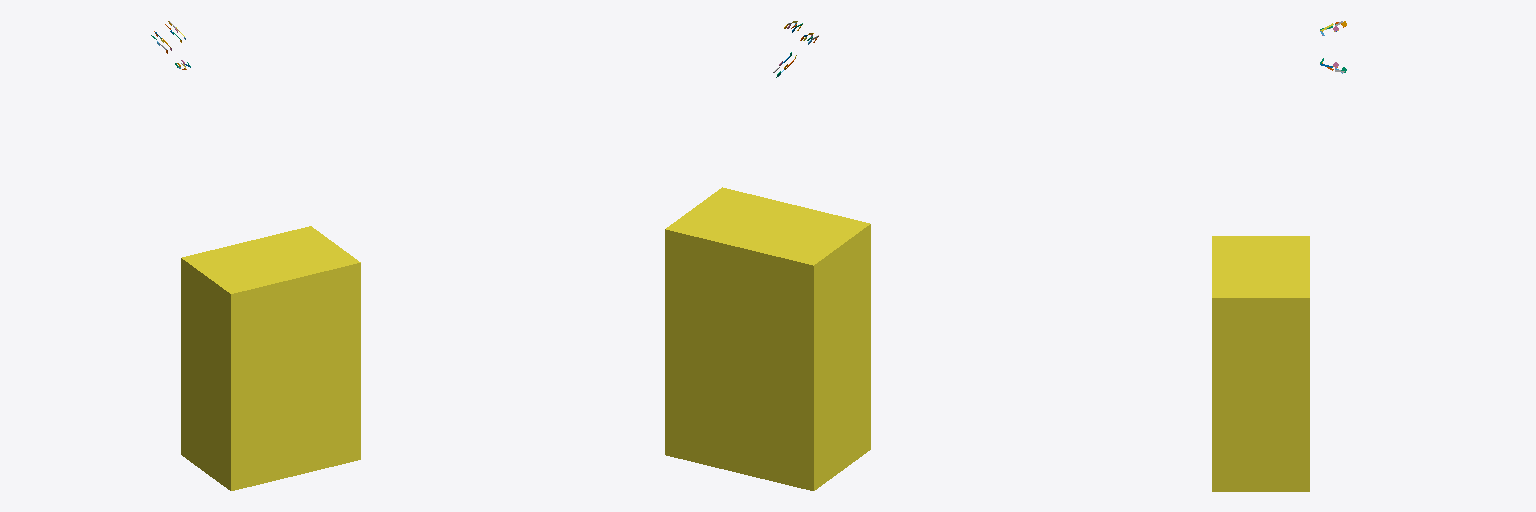
--- What the picture shows (computed from the rendered views, not written in the file) ---
Views: 3 orthographic renders of the robot side by side, from view 1: azimuth 30°, elevation 25°; view 2: azimuth 150°, elevation 25°; view 3: azimuth 270°, elevation 25°.
Model ur5 with 52 links and 51 joints (45 revolute, 6 fixed), rooted at world, posed joints at zero except 1 at the middle of their limits (shoulder_lift_joint = -2.02).
Links seen in each view (by area): view 1: box_link; view 2: box_link; view 3: box_link.
Link boxes in pixels (left/top/right/bottom): box_link: left=181, top=226, right=360, bottom=490; box_link: left=665, top=187, right=870, bottom=490; box_link: left=1212, top=236, right=1309, bottom=491.
Bounding box of the posed robot: 0.6582 × 0.5522 × 1.85 m (x, y, z).
Meshes: 12 distinct files referenced, 0 mesh visuals loaded (none loaded); not drawn: 20 (reference not matched to a file when rendering).

robot.urdf — ur5:
<?xml version="1.0" ?>
<!-- =================================================================================== -->
<!-- |    This document was autogenerated by xacro from ur5_joint_limited_box_robot_robotiq3.urdf.xacro | -->
<!-- |    EDITING THIS FILE BY HAND IS NOT RECOMMENDED                                 | -->
<!-- =================================================================================== -->
<robot name="ur5" xmlns:xacro="http://ros.org/wiki/xacro">
  <gazebo>
    <plugin filename="libgazebo_ros_control.so" name="ros_control">
      <!--robotNamespace>/</robotNamespace-->
      <!--robotSimType>gazebo_ros_control/DefaultRobotHWSim</robotSimType-->
    </plugin>
    <!--
    <plugin name="gazebo_ros_power_monitor_controller" filename="libgazebo_ros_power_monitor.so">
      <alwaysOn>true</alwaysOn>
      <updateRate>1.0</updateRate>
      <timeout>5</timeout>
      <powerStateTopic>power_state</powerStateTopic>
      <powerStateRate>10.0</powerStateRate>
      <fullChargeCapacity>87.78</fullChargeCapacity>     
      <dischargeRate>-474</dischargeRate>
      <chargeRate>525</chargeRate>
      <dischargeVoltage>15.52</dischargeVoltage>
      <chargeVoltage>16.41</chargeVoltage>
    </plugin>
-->
  </gazebo>
  <!-- measured from model -->
  <!--property name="shoulder_height" value="0.089159" /-->
  <!--property name="shoulder_offset" value="0.13585" /-->
  <!-- shoulder_offset - elbow_offset + wrist_1_length = 0.10915 -->
  <!--property name="upper_arm_length" value="0.42500" /-->
  <!--property name="elbow_offset" value="0.1197" /-->
  <!-- CAD measured -->
  <!--property name="forearm_length" value="0.39225" /-->
  <!--property name="wrist_1_length" value="0.093" /-->
  <!-- CAD measured -->
  <!--property name="wrist_2_length" value="0.09465" /-->
  <!-- In CAD this distance is 0.930, but in the spec it is 0.09465 -->
  <!--property name="wrist_3_length" value="0.0823" /-->
  <!-- manually measured -->
  <link name="base_link">
    <visual>
      <geometry>
        <mesh filename="package://ur_description/meshes/ur5/visual/base.dae"/>
      </geometry>
      <material name="LightGrey">
        <color rgba="0.7 0.7 0.7 1.0"/>
      </material>
    </visual>
    <collision>
      <geometry>
        <mesh filename="package://ur_description/meshes/ur5/collision/base.stl"/>
      </geometry>
    </collision>
    <inertial>
      <mass value="4.0"/>
      <origin rpy="0 0 0" xyz="0.0 0.0 0.0"/>
      <inertia ixx="0.00443333156" ixy="0.0" ixz="0.0" iyy="0.00443333156" iyz="0.0" izz="0.0072"/>
    </inertial>
  </link>
  <joint name="shoulder_pan_joint" type="revolute">
    <parent link="base_link"/>
    <child link="shoulder_link"/>
    <origin rpy="0.0 0.0 0.0" xyz="0.0 0.0 0.089159"/>
    <axis xyz="0 0 1"/>
    <limit effort="150.0" lower="-3.14159265" upper="3.14159265" velocity="3.15"/>
    <dynamics damping="0.0" friction="0.0"/>
  </joint>
  <link name="shoulder_link">
    <visual>
      <geometry>
        <mesh filename="package://ur_description/meshes/ur5/visual/shoulder.dae"/>
      </geometry>
      <material name="LightGrey">
        <color rgba="0.7 0.7 0.7 1.0"/>
      </material>
    </visual>
    <collision>
      <geometry>
        <mesh filename="package://ur_description/meshes/ur5/collision/shoulder.stl"/>
      </geometry>
    </collision>
    <inertial>
      <mass value="3.7"/>
      <origin rpy="0 0 0" xyz="0.0 0.0 0.0"/>
      <inertia ixx="0.010267495893" ixy="0.0" ixz="0.0" iyy="0.010267495893" iyz="0.0" izz="0.00666"/>
    </inertial>
  </link>
  <joint name="shoulder_lift_joint" type="revolute">
    <parent link="shoulder_link"/>
    <child link="upper_arm_link"/>
    <origin rpy="0.0 1.570796325 0.0" xyz="0.0 0.13585 0.0"/>
    <axis xyz="0 1 0"/>
    <limit effort="150.0" lower="-3.14159265" upper="-0.9" velocity="3.15"/>
    <!-- <limit effort="150.0" lower="-3.14159265" upper="-0.8" velocity="3.15"/> -->
    <dynamics damping="0.0" friction="0.0"/>
  </joint>
  <link name="upper_arm_link">
    <visual>
      <geometry>
        <mesh filename="package://ur_description/meshes/ur5/visual/upperarm.dae"/>
      </geometry>
      <material name="LightGrey">
        <color rgba="0.7 0.7 0.7 1.0"/>
      </material>
    </visual>
    <collision>
      <geometry>
        <mesh filename="package://ur_description/meshes/ur5/collision/upperarm.stl"/>
      </geometry>
    </collision>
    <inertial>
      <mass value="8.393"/>
      <origin rpy="0 0 0" xyz="0.0 0.0 0.28"/>
      <inertia ixx="0.22689067591" ixy="0.0" ixz="0.0" iyy="0.22689067591" iyz="0.0" izz="0.0151074"/>
    </inertial>
  </link>
  <joint name="elbow_joint" type="revolute">
    <parent link="upper_arm_link"/>
    <child link="forearm_link"/>
    <origin rpy="0.0 0.0 0.0" xyz="0.0 -0.1197 0.425"/>
    <axis xyz="0 1 0"/>
    <limit effort="150.0" lower="-3.14159265" upper="3.14159265" velocity="3.15"/>
    <dynamics damping="0.0" friction="0.0"/>
  </joint>
  <link name="forearm_link">
    <visual>
      <geometry>
        <mesh filename="package://ur_description/meshes/ur5/visual/forearm.dae"/>
      </geometry>
      <material name="LightGrey">
        <color rgba="0.7 0.7 0.7 1.0"/>
      </material>
    </visual>
    <collision>
      <geometry>
        <mesh filename="package://ur_description/meshes/ur5/collision/forearm.stl"/>
      </geometry>
    </collision>
    <inertial>
      <mass value="2.275"/>
      <origin rpy="0 0 0" xyz="0.0 0.0 0.25"/>
      <inertia ixx="0.049443313556" ixy="0.0" ixz="0.0" iyy="0.049443313556" iyz="0.0" izz="0.004095"/>
    </inertial>
  </link>
  <joint name="wrist_1_joint" type="revolute">
    <parent link="forearm_link"/>
    <child link="wrist_1_link"/>
    <origin rpy="0.0 1.570796325 0.0" xyz="0.0 0.0 0.39225"/>
    <axis xyz="0 1 0"/>
    <limit effort="28.0" lower="-3.14159265" upper="3.14159265" velocity="3.2"/>
    <dynamics damping="0.0" friction="0.0"/>
  </joint>
  <link name="wrist_1_link">
    <visual>
      <geometry>
        <mesh filename="package://ur_description/meshes/ur5/visual/wrist1.dae"/>
      </geometry>
      <material name="LightGrey">
        <color rgba="0.7 0.7 0.7 1.0"/>
      </material>
    </visual>
    <collision>
      <geometry>
        <mesh filename="package://ur_description/meshes/ur5/collision/wrist1.stl"/>
      </geometry>
    </collision>
    <inertial>
      <mass value="1.219"/>
      <origin rpy="0 0 0" xyz="0.0 0.0 0.0"/>
      <inertia ixx="0.111172755531" ixy="0.0" ixz="0.0" iyy="0.111172755531" iyz="0.0" izz="0.21942"/>
    </inertial>
  </link>
  <joint name="wrist_2_joint" type="revolute">
    <parent link="wrist_1_link"/>
    <child link="wrist_2_link"/>
    <origin rpy="0.0 0.0 0.0" xyz="0.0 0.093 0.0"/>
    <axis xyz="0 0 1"/>
    <limit effort="28.0" lower="-3.14159265" upper="3.14159265" velocity="3.2"/>
    <dynamics damping="0.0" friction="0.0"/>
  </joint>
  <link name="wrist_2_link">
    <visual>
      <geometry>
        <mesh filename="package://ur_description/meshes/ur5/visual/wrist2.dae"/>
      </geometry>
      <material name="LightGrey">
        <color rgba="0.7 0.7 0.7 1.0"/>
      </material>
    </visual>
    <collision>
      <geometry>
        <mesh filename="package://ur_description/meshes/ur5/collision/wrist2.stl"/>
      </geometry>
    </collision>
    <inertial>
      <mass value="1.219"/>
      <origin rpy="0 0 0" xyz="0.0 0.0 0.0"/>
      <inertia ixx="0.111172755531" ixy="0.0" ixz="0.0" iyy="0.111172755531" iyz="0.0" izz="0.21942"/>
    </inertial>
  </link>
  <joint name="wrist_3_joint" type="revolute">
    <parent link="wrist_2_link"/>
    <child link="wrist_3_link"/>
    <origin rpy="0.0 0.0 0.0" xyz="0.0 0.0 0.09465"/>
    <axis xyz="0 1 0"/>
    <limit effort="28.0" lower="-3.14159265" upper="3.14159265" velocity="3.2"/>
    <dynamics damping="0.0" friction="0.0"/>
  </joint>
  <link name="wrist_3_link">
    <visual>
      <geometry>
        <mesh filename="package://ur_description/meshes/ur5/visual/wrist3.dae"/>
      </geometry>
      <material name="LightGrey">
        <color rgba="0.7 0.7 0.7 1.0"/>
      </material>
    </visual>
    <collision>
      <geometry>
        <mesh filename="package://ur_description/meshes/ur5/collision/wrist3.stl"/>
      </geometry>
    </collision>
    <inertial>
      <mass value="0.1879"/>
      <origin rpy="0 0 0" xyz="0.0 0.0 0.0"/>
      <inertia ixx="0.0171364731454" ixy="0.0" ixz="0.0" iyy="0.0171364731454" iyz="0.0" izz="0.033822"/>
    </inertial>
  </link>
  <joint name="ee_fixed_joint" type="fixed">
    <parent link="wrist_3_link"/>
    <child link="ee_link"/>
    <origin rpy="0.0 0.0 1.570796325" xyz="0.0 0.0823 0.0"/>
  </joint>
  <link name="ee_link">
    <collision>
      <geometry>
        <box size="0.01 0.01 0.01"/>
      </geometry>
      <origin rpy="0 0 0" xyz="-0.01 0 0"/>
    </collision>
  </link>
  
  
  <transmission name="elbow_trans">
    <type>transmission_interface/SimpleTransmission</type>
    <joint name="elbow_joint">
      <hardwareInterface>PositionJointInterface</hardwareInterface>
    </joint>
    <actuator name="elbow_motor">
      <mechanicalReduction>1</mechanicalReduction>
    </actuator>
  </transmission>
  <transmission name="wrist_1_trans">
    <type>transmission_interface/SimpleTransmission</type>
    <joint name="wrist_1_joint">
      <hardwareInterface>PositionJointInterface</hardwareInterface>
    </joint>
    <actuator name="wrist_1_motor">
      <mechanicalReduction>1</mechanicalReduction>
    </actuator>
  </transmission>
  <transmission name="wrist_2_trans">
    <type>transmission_interface/SimpleTransmission</type>
    <joint name="wrist_2_joint">
      <hardwareInterface>PositionJointInterface</hardwareInterface>
    </joint>
    <actuator name="wrist_2_motor">
      <mechanicalReduction>1</mechanicalReduction>
    </actuator>
  </transmission>
  <transmission name="wrist_3_trans">
    <type>transmission_interface/SimpleTransmission</type>
    <joint name="wrist_3_joint">
      <hardwareInterface>PositionJointInterface</hardwareInterface>
    </joint>
    <actuator name="wrist_3_motor">
      <mechanicalReduction>1</mechanicalReduction>
    </actuator>
  </transmission>
  <!-- nothing to do here at the moment -->
  <!-- ROS base_link to UR 'Base' Coordinates transform -->
  <link name="base"/>
  <joint name="base_link-base_fixed_joint" type="fixed">
    <!-- NOTE: this rotation is only needed as long as base_link itself is
                 not corrected wrt the real robot (ie: rotated over 180
                 degrees)
      -->
    <origin rpy="0 0 -3.14159265" xyz="0 0 0"/>
    <parent link="base_link"/>
    <child link="base"/>
  </joint>
  <!-- Frame coincident with all-zeros TCP on UR controller -->
  <link name="tool0"/>
  <joint name="wrist_3_link-tool0_fixed_joint" type="fixed">
    <origin rpy="-1.570796325 0 0" xyz="0 0.0823 0"/>
    <parent link="wrist_3_link"/>
    <child link="tool0"/>
  </joint>
  <link name="world"/>
  <!-- box -->
  <link name="box_link">
    <visual>
      <geometry>
        <box size=".6 .4 0.87"/>
      </geometry>
    </visual>
  </link>
  <!-- attach the box to the world-->
  <joint name="world_joint" type="fixed">
    <parent link="world"/>
    <child link="box_link"/>
    <origin rpy="0.0 0.0 0.0" xyz="0.0 0 0.435"/>
  </joint>
  <!-- attach the robot to the box -->
  <joint name="box_joint" type="fixed">
    <parent link="box_link"/>
    <child link="base_link"/>
    <origin rpy="0.0 0.0 0.0" xyz="0.0 0.0 0.435"/>
  </joint>
  <!-- joint attaching parent link to robotiq hand -->
  <joint name="gripperrobotiq_hand_joint" type="fixed">
    <origin rpy="1.570796325 0 0" xyz="0 0 0.0423"/>
    <parent link="tool0"/>
    <child link="gripperpalm"/>
  </joint>
  <!-- Link list -->
  <!-- Link 0 -->
  <link name="gripperfinger_1_link_0">
    <visual>
      <origin rpy="0 0 0" xyz="0 0 0"/>
      <geometry>
        <mesh filename="package://robotiq_s_model_visualization/meshes/s-model_articulated/visual/link_0.STL"/>
      </geometry>
      <material name="green">
        <color rgba="0 1 0 1"/>
      </material>
    </visual>
    <collision>
      <origin rpy="0 0 0" xyz="0 0 0"/>
      <geometry>
        <mesh filename="package://robotiq_s_model_visualization/meshes/s-model_articulated/collision/link_0.STL"/>
      </geometry>
      <material name="yellow">
        <color rgba="0 1 1 1"/>
      </material>
    </collision>
    <inertial>
      <mass value="0.1"/>
      <origin xyz="-0.01 0 0"/>
      <inertia ixx="0.000018" ixy="0" ixz="0" iyy="0.000025" iyz="0" izz="0.000025"/>
    </inertial>
  </link>
  <gazebo reference="gripperfinger_1_link_0">
    <mu1>1.1</mu1>
    <mu2>1.1</mu2>
  </gazebo>
  <!-- Link 1 -->
  <link name="gripperfinger_1_link_1">
    <visual>
      <origin rpy="0 0 1.5708" xyz="0 0.05717 0"/>
      <geometry>
        <mesh filename="package://robotiq_s_model_visualization/meshes/s-model_articulated/visual/link_1.STL"/>
      </geometry>
      <material name="green"/>
    </visual>
    <collision>
      <origin rpy="0 0 1.5708" xyz="0 0.05717 0"/>
      <geometry>
        <mesh filename="package://robotiq_s_model_visualization/meshes/s-model_articulated/collision/link_1.STL"/>
      </geometry>
      <material name="yellow">
        <color rgba="0 1 1 1"/>
      </material>
    </collision>
    <inertial>
      <origin rpy="0 0 1.5708" xyz="0.00053 0.03218 0"/>
      <mass value="0.047"/>
      <inertia ixx="0.00000499332" ixy="0.00000091312" ixz="-0.00000000120" iyy="0.00006434531" iyz="-0.00000000007" izz="0.00006061917"/>
    </inertial>
  </link>
  <gazebo reference="gripperfinger_1_link_1">
    <mu1>1.1</mu1>
    <mu2>1.1</mu2>
  </gazebo>
  <!-- Link 2 -->
  <link name="gripperfinger_1_link_2">
    <visual>
      <origin rpy="0 0 1.5708" xyz="0 0.03810 0.0075"/>
      <geometry>
        <mesh filename="package://robotiq_s_model_visualization/meshes/s-model_articulated/visual/link_2.STL"/>
      </geometry>
      <material name="green"/>
    </visual>
    <collision>
      <origin rpy="0 0 1.5708" xyz="0 0.03810 0.0075"/>
      <geometry>
        <mesh filename="package://robotiq_s_model_visualization/meshes/s-model_articulated/collision/link_2.STL"/>
      </geometry>
      <material name="yellow"/>
    </collision>
    <inertial>
      <origin rpy="0 0 1.5708" xyz="0.00048 0.02167 0.00018"/>
      <mass value="0.03284"/>
      <inertia ixx="0.00000348008" ixy="0.00000031940" ixz="0.00000013041" iyy="0.00002248123" iyz="0.00000000291" izz="0.00001986346"/>
    </inertial>
  </link>
  <gazebo reference="gripperfinger_1_link_2">
    <mu1>1.1</mu1>
    <mu2>1.1</mu2>
  </gazebo>
  <!-- Link 3 -->
  <link name="gripperfinger_1_link_3">
    <visual>
      <origin rpy="0 0 0" xyz="0 0 0"/>
      <geometry>
        <mesh filename="package://robotiq_s_model_visualization/meshes/s-model_articulated/visual/link_3.STL"/>
      </geometry>
      <material name="green"/>
    </visual>
    <collision>
      <origin rpy="0 0 0" xyz="0 0 0"/>
      <geometry>
        <mesh filename="package://robotiq_s_model_visualization/meshes/s-model_articulated/collision/link_3.STL"/>
      </geometry>
      <material name="yellow"/>
    </collision>
    <inertial>
      <origin rpy="0 0 0" xyz="0.01626 0.00049 0.0002"/>
      <mass value="0.03354"/>
      <inertia ixx="0.00000305151" ixy="0.00000089792" ixz="0.00000000249" iyy="0.00001427978" iyz="-0.00000001191" izz="0.00001264126"/>
    </inertial>
  </link>
  <gazebo reference="gripperfinger_1_link_3">
    <mu1>1.1</mu1>
    <mu2>1.1</mu2>
  </gazebo>
  <!-- Link proximal actuating hinge -->
  <link name="gripperfinger_1_link_proximal_actuating_hinge">
    <visual>
      <origin rpy="0 0 0" xyz="0.01429 0 0"/>
      <geometry>
        <box size="0.02858 .0075 .002"/>
      </geometry>
    </visual>
    <collision>
      <origin rpy="0 0 0" xyz="0.01429 0 0"/>
      <geometry>
        <box size="0.02858 .0075 .002"/>
      </geometry>
    </collision>
    <inertial>
      <origin rpy="0 0 0" xyz="0.0012 -0.00162 -0.00161"/>
      <mass value="0.02647"/>
      <inertia ixx="0.00000156447" ixy="0.000000236226" ixz="-0.00000014862" iyy="0.00000221068" iyz="-0.00000014369" izz="0.00000323175"/>
    </inertial>
  </link>
  <gazebo reference="gripperfinger_1_link_proximal_actuating_hinge">
    <mu1>1.1</mu1>
    <mu2>1.1</mu2>
  </gazebo>
  <!-- Link paraproximal actuating hinge -->
  <link name="gripperfinger_1_link_paraproximal_actuating_hinge">
    <visual>
      <origin rpy="0 0 0" xyz="0.01143 0 0"/>
      <geometry>
        <box size="0.02286 .0075 .002"/>
      </geometry>
    </visual>
    <collision>
      <origin rpy="0 0 0" xyz="0.01143 0 0"/>
      <geometry>
        <box size="0.02286 .0075 .002"/>
      </geometry>
    </collision>
    <inertial>
      <origin rpy="0 0 0" xyz="0.0064 0 0"/>
      <!-- copied from proximal_actuating_hinge -->
      <mass value="0.00362"/>
      <inertia ixx="0.00000012043" ixy="0" ixz="0" iyy="0.00000053588" iyz="0" izz="0.00000065322"/>
    </inertial>
  </link>
  <gazebo reference="gripperfinger_1_link_paraproximal_actuating_hinge">
    <mu1>1.1</mu1>
    <mu2>1.1</mu2>
  </gazebo>
  <!-- Link proximal actuating bar -->
  <link name="gripperfinger_1_link_proximal_actuating_bar">
    <visual>
      <origin rpy="0 0 0" xyz="0.026789 0 0"/>
      <geometry>
        <box size="0.05398 .0075 .002"/>
      </geometry>
    </visual>
    <collision>
      <origin rpy="0 0 0" xyz="0.026789 0 0"/>
      <geometry>
        <box size="0.05398 .0075 .002"/>
      </geometry>
    </collision>
    <inertial>
      <origin rpy="0 0 0" xyz="0.02699 -0.00122 0"/>
      <mass value="0.00659"/>
      <inertia ixx="0.00000008348" ixy="-0.0000002179" ixz="0.00000000134" iyy="0.00000719076" iyz="0" izz="0.00000718272"/>
    </inertial>
  </link>
  <gazebo reference="gripperfinger_1_link_proximal_actuating_bar">
    <mu1>1.1</mu1>
    <mu2>1.1</mu2>
  </gazebo>
  <!-- Link paraproximal bar -->
  <link name="gripperfinger_1_link_paraproximal_bar">
    <visual>
      <origin rpy="0 0 0" xyz="0.02885 0 0"/>
      <geometry>
        <box size="0.05770 .0075 .002"/>
      </geometry>
    </visual>
    <collision>
      <origin rpy="0 0 0" xyz="0.02885 0 0"/>
      <geometry>
        <box size="0.05770 .0075 .002"/>
      </geometry>
    </collision>
    <inertial>
      <origin rpy="0 0 0" xyz="0.02858 -0.00129 0"/>
      <mass value="0.00732"/>
      <inertia ixx="0.00000009065" ixy="-0.00000027047" ixz="0.00000000142" iyy="0.00000878034" iyz="0" izz="0.00000877558"/>
    </inertial>
  </link>
  <gazebo reference="gripperfinger_1_link_paraproximal_bar">
    <mu1>1.1</mu1>
    <mu2>1.1</mu2>
  </gazebo>
  <!-- Link median actuating hinge -->
  <link name="gripperfinger_1_link_median_actuating_hinge">
    <visual>
      <origin rpy="0 0 0" xyz="0 0 0"/>
      <geometry>
        <box size=".02 .02 .002"/>
      </geometry>
    </visual>
    <collision>
      <origin rpy="0 0 0" xyz="0 0 0"/>
      <geometry>
        <box size=".02 .02 .002"/>
      </geometry>
    </collision>
    <inertial>
      <origin rpy="0 0 0" xyz="0.0092 0.00514 0"/>
      <mass value="0.00359"/>
      <inertia ixx="0.00000024735" ixy="0.00000023619" ixz="0" iyy="0.00000047681" iyz="0" izz="0.00000071813"/>
    </inertial>
  </link>
  <gazebo reference="gripperfinger_1_link_median_actuating_hinge">
    <mu1>1.1</mu1>
    <mu2>1.1</mu2>
  </gazebo>
  <!-- Link median bar -->
  <link name="gripperfinger_1_link_median_bar">
    <visual>
      <origin rpy="0 0 0" xyz="0.01905 0 0"/>
      <geometry>
        <box size="0.0381 .0075 .002"/>
      </geometry>
    </visual>
    <collision>
      <origin rpy="0 0 0" xyz="0.01905 0 0"/>
      <geometry>
        <box size="0.0381 .0075 .002"/>
      </geometry>
    </collision>
    <inertial>
      <origin rpy="0 0 0" xyz="0.01905 -0.00107 0"/>
      <mass value="0.00538"/>
      <inertia ixx="0.00000006639" ixy="-0.00000010996" ixz="0.00000000094" iyy="0.00000305318" iyz="0" izz="0.00000304657"/>
    </inertial>
  </link>
  <gazebo reference="gripperfinger_1_link_median_bar">
    <mu1>1.1</mu1>
    <mu2>1.1</mu2>
  </gazebo>
  <!-- Link paramedian hinge -->
  <link name="gripperfinger_1_link_paramedian_hinge">
    <visual>
      <origin rpy="0 0 0" xyz="0 0 0"/>
      <geometry>
        <box size=".02 .02 .002"/>
      </geometry>
    </visual>
    <collision>
      <origin rpy="0 0 0" xyz="0 0 0"/>
      <geometry>
        <box size=".02 .02 .002"/>
      </geometry>
    </collision>
    <inertial>
      <origin rpy="0 0 0" xyz="-0.01025 0.00046 0"/>
      <mass value="0.00276"/>
      <inertia ixx="0.00000004213" ixy="-0.00000001491" ixz="0" iyy="0.00000050258" iyz="0" izz="0.00000054007"/>
    </inertial>
  </link>
  <gazebo reference="gripperfinger_1_link_paramedian_hinge">
    <mu1>1.1</mu1>
    <mu2>1.1</mu2>
  </gazebo>
  <!-- Link median bar underactuated -->
  <link name="gripperfinger_1_link_median_bar_underactuated">
    <visual>
      <origin rpy="0 0 0" xyz="0.01905 0 0"/>
      <geometry>
        <box size="0.0381 .0075 .002"/>
      </geometry>
    </visual>
    <collision>
      <origin rpy="0 0 0" xyz="0.01905 0 0"/>
      <geometry>
        <box size="0.0381 .0075 .002"/>
      </geometry>
    </collision>
    <inertial>
      <origin rpy="0 0 0" xyz="0.01905 -0.00107 0"/>
      <mass value="0.00538"/>
      <inertia ixx="0.00000006639" ixy="-0.00000010996" ixz="-0.00000000094" iyy="0.00000305318" iyz="0" izz="0.00000304657"/>
    </inertial>
  </link>
  <gazebo reference="gripperfinger_1_link_median_bar_underactuated">
    <mu1>1.1</mu1>
    <mu2>1.1</mu2>
  </gazebo>
  <!-- Link paradistal hinge -->
  <link name="gripperfinger_1_link_paradistal_hinge">
    <visual>
      <origin rpy="0 0 0" xyz="0 0 0"/>
      <geometry>
        <box size=".02 .02 .002"/>
      </geometry>
    </visual>
    <collision>
      <origin rpy="0 0 0" xyz="0 0 0"/>
      <geometry>
        <box size=".02 0.02 .002"/>
      </geometry>
    </collision>
    <inertial>
      <origin rpy="0 0 0" xyz="0.00548 0 0"/>
      <mass value="0.00158"/>
      <inertia ixx="0.00000001907" ixy="0" ixz="0" iyy="0.00000010970" iyz="0" izz="0.00000012610"/>
    </inertial>
  </link>
  <gazebo reference="gripperfinger_1_link_paradistal_hinge">
    <mu1>1.1</mu1>
    <mu2>1.1</mu2>
  </gazebo>
  <!-- End of link list -->
  <!-- Joint list -->
  <!-- Joint proximal actuating hinge -->
  <joint name="gripperfinger_1_joint_proximal_actuating_hinge" type="revolute">
    <parent link="gripperfinger_1_link_0"/>
    <child link="gripperfinger_1_link_proximal_actuating_hinge"/>
    <axis xyz="0 0 1"/>
    <origin rpy="0 0 -2.0906" xyz="0 0 0.01"/>
    <limit effort="100" lower="-3.1416" upper="3.1416" velocity="100"/>
  </joint>
  <gazebo reference="gripperfinger_1_joint_proximal_actuating_hinge">
    <implicitSpringDamper>1</implicitSpringDamper>
  </gazebo>
  <!-- Joint paraproximal actuating hinge -->
  <joint name="gripperfinger_1_joint_paraproximal_actuating_hinge" type="revolute">
    <parent link="gripperfinger_1_link_0"/>
    <child link="gripperfinger_1_link_paraproximal_actuating_hinge"/>
    <axis xyz="0 0 1"/>
    <origin rpy="0 0 -2.0906" xyz="0 0 -0.01"/>
    <limit effort="100" lower="-3.1416" upper="3.1416" velocity="100"/>
  </joint>
  <gazebo reference="gripperfinger_1_joint_paraproximal_actuating_hinge">
    <implicitSpringDamper>1</implicitSpringDamper>
  </gazebo>
  <!-- Joint proximal actuating bar -->
  <joint name="gripperfinger_1_joint_proximal_actuating_bar" type="revolute">
    <parent link="gripperfinger_1_link_proximal_actuating_hinge"/>
    <child link="gripperfinger_1_link_proximal_actuating_bar"/>
    <axis xyz="0 0 1"/>
    <origin rpy="0 0 1.8616" xyz="0.02858 0 0"/>
    <limit effort="100" lower="-3.1416" upper="3.1416" velocity="100"/>
  </joint>
  <gazebo reference="gripperfinger_1_joint_proximal_actuating_bar">
    <implicitSpringDamper>1</implicitSpringDamper>
  </gazebo>
  <!-- Joint paraproximal bar -->
  <joint name="gripperfinger_1_joint_paraproximal_bar" type="revolute">
    <parent link="gripperfinger_1_link_paraproximal_actuating_hinge"/>
    <child link="gripperfinger_1_link_paraproximal_bar"/>
    <axis xyz="0 0 1"/>
    <origin rpy="0 0 1.57" xyz="0.02286 0 0"/>
    <limit effort="100" lower="-3.1416" upper="3.1416" velocity="100"/>
  </joint>
  <gazebo reference="gripperfinger_1_joint_paraproximal_bar">
    <implicitSpringDamper>1</implicitSpringDamper>
  </gazebo>
  <!-- Joint median actuating hinge -->
  <joint name="gripperfinger_1_joint_median_actuating_hinge" type="revolute">
    <parent link="gripperfinger_1_link_1"/>
    <child link="gripperfinger_1_link_median_actuating_hinge"/>
    <axis xyz="0 0 1"/>
    <origin rpy="0 0 -0.37" xyz="0 0.05715 0.01"/>
    <limit effort="100" lower="-3.1416" upper="3.1416" velocity="100"/>
  </joint>
  <gazebo reference="gripperfinger_1_joint_median_actuating_hinge">
    <implicitSpringDamper>1</implicitSpringDamper>
  </gazebo>
  <!-- Joint paramedian hinge -->
  <joint name="gripperfinger_1_joint_paramedian_hinge" type="revolute">
    <parent link="gripperfinger_1_link_1"/>
    <child link="gripperfinger_1_link_paramedian_hinge"/>
    <axis xyz="0 0 1"/>
    <!-- -0.37 is hand picked, 0.9719 is hand calculated from atan(0.02381/0.01625) -->
    <origin rpy="0 0 0" xyz="0 0.05715 -0.01"/>
    <limit effort="100" lower="-3.1416" upper="3.1416" velocity="100"/>
  </joint>
  <gazebo reference="gripperfinger_1_joint_paramedian_hinge">
    <implicitSpringDamper>1</implicitSpringDamper>
  </gazebo>
  <!-- Joint median actuating hinge median bar -->
  <joint name="gripperfinger_1_joint_median_actuating_hinge_median_bar" type="revolute">
    <parent link="gripperfinger_1_link_median_actuating_hinge"/>
    <child link="gripperfinger_1_link_median_bar"/>
    <axis xyz="0 0 1"/>
    <!-- hand calc 90 deg + atan(0.01516/0.01625) -->
    <origin rpy="0 0 2.3215" xyz="0.01625 0.01516 0"/>
    <limit effort="100" lower="-3.1416" upper="3.1416" velocity="100"/>
  </joint>
  <gazebo reference="gripperfinger_1_joint_median_actuating_hinge_median_bar">
    <implicitSpringDamper>1</implicitSpringDamper>
  </gazebo>
  <!-- Joint paradistal hinge -->
  <joint name="gripperfinger_1_joint_paradistal_hinge" type="revolute">
    <parent link="gripperfinger_1_link_2"/>
    <child link="gripperfinger_1_link_paradistal_hinge"/>
    <axis xyz="0 0 1"/>
    <origin rpy="0 0 0" xyz="0 0.039 -0.01"/>
    <limit effort="100" lower="-3.1416" upper="3.1416" velocity="100"/>
  </joint>
  <gazebo reference="gripperfinger_1_joint_paradistal_hinge">
    <implicitSpringDamper>1</implicitSpringDamper>
  </gazebo>
  <!-- Joint paramedian hinge median bar underactuated -->
  <joint name="gripperfinger_1_joint_paramedian_hinge_median_bar_underactuated" type="revolute">
    <parent link="gripperfinger_1_link_paramedian_hinge"/>
    <child link="gripperfinger_1_link_median_bar_underactuated"/>
    <axis xyz="0 0 1"/>
    <!-- hand calc 90 deg + atan(0.01227/0.00329) -->
    <origin rpy="0 0 1.5708" xyz="0.01227 0.00329 0"/>
    <limit effort="100" lower="-3.1416" upper="3.1416" velocity="100"/>
  </joint>
  <gazebo reference="gripperfinger_1_joint_paramedian_hinge_median_bar_underactuated">
    <implicitSpringDamper>1</implicitSpringDamper>
  </gazebo>
  <!-- Joint 1 -->
  <joint name="gripperfinger_1_joint_1" type="revolute">
    <origin rpy="0 0 -2.0906" xyz="0 0 0"/>
    <axis xyz="0 0 1"/>
    <parent link="gripperfinger_1_link_0"/>
    <child link="gripperfinger_1_link_1"/>
    <dynamics damping="1" friction="0"/>
    <!-- Limits: [0deg.,70deg.] -->
    <limit effort="60" lower="0" upper="1.2217" velocity="-1"/>
  </joint>
  <gazebo reference="gripperfinger_1_joint_1">
    <implicitSpringDamper>1</implicitSpringDamper>
  </gazebo>
  <!-- Joint 2 -->
  <joint name="gripperfinger_1_joint_2" type="revolute">
    <parent link="gripperfinger_1_link_1"/>
    <child link="gripperfinger_1_link_2"/>
    <dynamics damping="1" friction="0"/>
    <axis xyz="0 0 1"/>
    <origin rpy="0 0 0" xyz="0 0.05715 0"/>
    <!-- Limits: [0deg.,90deg.] -->
    <limit effort="60" lower="0" upper="1.5708" velocity="-1"/>
  </joint>
  <gazebo reference="gripperfinger_1_joint_2">
    <implicitSpringDamper>1</implicitSpringDamper>
  </gazebo>
  <!-- Joint 3 -->
  <joint name="gripperfinger_1_joint_3" type="revolute">
    <parent link="gripperfinger_1_link_2"/>
    <child link="gripperfinger_1_link_3"/>
    <dynamics damping="1" friction="0"/>
    <axis xyz="0 0 1"/>
    <origin rpy="0 0 2.0906" xyz="0 0.039 0"/>
    <!-- Limits: [-38deg.,60deg.] -->
    <limit effort="60" lower="-0.6632" upper="1.0471" velocity="-1"/>
  </joint>
  <gazebo reference="gripperfinger_1_joint_3">
    <implicitSpringDamper>1</implicitSpringDamper>
  </gazebo>
  <!-- end of joint list -->
  <!-- coupling joints in sdf -->
  <gazebo>
    <joint name="gripperfinger_1_link_proximal_actuating_bar_median_actuating_hinge_couple" type="revolute">
      <parent>gripperfinger_1_link_median_actuating_hinge</parent>
      <child>gripperfinger_1_link_proximal_actuating_bar</child>
      <pose>0.05398 0 0 0 0 0</pose>
      <axis>
        <dynamics>
          <damping>0</damping>
          <friction>0</friction>
        </dynamics>
        <xyz>0 0 1</xyz>
        <!-- <use_parent_model_frame>false</use_parent_model_frame> -->
      </axis>
    </joint>
  </gazebo>
  <gazebo reference="gripperfinger_1_link_proximal_actuating_bar_median_actuating_hinge_couple">
    <implicitSpringDamper>1</implicitSpringDamper>
  </gazebo>
  <gazebo>
    <joint name="gripperfinger_1_link_median_bar_link_3_couple" type="revolute">
      <parent>gripperfinger_1_link_3</parent>
      <child>gripperfinger_1_link_median_bar</child>
      <pose>0.0381 0 0 0 0 0</pose>
      <axis>
        <dynamics>
          <damping>0</damping>
          <friction>0</friction>
        </dynamics>
        <xyz>0 0 1</xyz>
        <!-- <use_parent_model_frame>false</use_parent_model_frame> -->
      </axis>
    </joint>
  </gazebo>
  <gazebo reference="gripperfinger_1_link_median_bar_link_3_couple">
    <implicitSpringDamper>1</implicitSpringDamper>
  </gazebo>
  <gazebo>
    <joint name="gripperfinger_1_link_paramedian_bar_paradistal_hinge_couple" type="revolute">
      <parent>gripperfinger_1_link_paradistal_hinge</parent>
      <child>gripperfinger_1_link_median_bar_underactuated</child>
      <pose>0.0381 0 0 0 0 0</pose>
      <axis>
        <dynamics>
          <damping>0</damping>
          <friction>0</friction>
        </dynamics>
        <xyz>0 0 1</xyz>
        <!-- <use_parent_model_frame>false</use_parent_model_frame> -->
      </axis>
    </joint>
  </gazebo>
  <gazebo reference="gripperfinger_1_link_median_bar_link_3_couple">
    <implicitSpringDamper>1</implicitSpringDamper>
  </gazebo>
  <gazebo>
    <joint name="gripperfinger_1_link_paradistal_hinge_link_3_couple" type="revolute">
      <parent>gripperfinger_1_link_paradistal_hinge</parent>
      <child>gripperfinger_1_link_3</child>
      <pose>0.0381 0 0 0 0 0</pose>
      <axis>
        <dynamics>
          <damping>0</damping>
          <friction>0</friction>
        </dynamics>
        <xyz>0 0 1</xyz>
        <!-- <use_parent_model_frame>false</use_parent_model_frame> -->
      </axis>
    </joint>
  </gazebo>
  <gazebo reference="gripperfinger_1_link_paradistal_hinge_link_3_couple">
    <implicitSpringDamper>1</implicitSpringDamper>
  </gazebo>
  <gazebo>
    <joint name="gripperfinger_1_link_paraproximal_bar_paramedian_hinge_couple" type="revolute">
      <parent>gripperfinger_1_link_paramedian_hinge</parent>
      <child>gripperfinger_1_link_paraproximal_bar</child>
      <pose>0.05770 0 0 0 0 0</pose>
      <axis>
        <dynamics>
          <damping>0</damping>
          <friction>0</friction>
        </dynamics>
        <xyz>0 0 1</xyz>
        <!-- <use_parent_model_frame>false</use_parent_model_frame> -->
      </axis>
    </joint>
  </gazebo>
  <gazebo reference="gripperfinger_1_link_paraproximal_bar_paramedian_hinge_couple">
    <implicitSpringDamper>1</implicitSpringDamper>
  </gazebo>
  <!-- Link list -->
  <!-- Link 0 -->
  <link name="gripperfinger_2_link_0">
    <visual>
      <origin rpy="0 0 0" xyz="0 0 0"/>
      <geometry>
        <mesh filename="package://robotiq_s_model_visualization/meshes/s-model_articulated/visual/link_0.STL"/>
      </geometry>
      <material name="green">
        <color rgba="0 1 0 1"/>
      </material>
    </visual>
    <collision>
      <origin rpy="0 0 0" xyz="0 0 0"/>
      <geometry>
        <mesh filename="package://robotiq_s_model_visualization/meshes/s-model_articulated/collision/link_0.STL"/>
      </geometry>
      <material name="yellow">
        <color rgba="0 1 1 1"/>
      </material>
    </collision>
    <inertial>
      <mass value="0.1"/>
      <origin xyz="-0.01 0 0"/>
      <inertia ixx="0.000018" ixy="0" ixz="0" iyy="0.000025" iyz="0" izz="0.000025"/>
    </inertial>
  </link>
  <gazebo reference="gripperfinger_2_link_0">
    <mu1>1.1</mu1>
    <mu2>1.1</mu2>
  </gazebo>
  <!-- Link 1 -->
  <link name="gripperfinger_2_link_1">
    <visual>
      <origin rpy="0 0 1.5708" xyz="0 0.05717 0"/>
      <geometry>
        <mesh filename="package://robotiq_s_model_visualization/meshes/s-model_articulated/visual/link_1.STL"/>
      </geometry>
      <material name="green"/>
    </visual>
    <collision>
      <origin rpy="0 0 1.5708" xyz="0 0.05717 0"/>
      <geometry>
        <mesh filename="package://robotiq_s_model_visualization/meshes/s-model_articulated/collision/link_1.STL"/>
      </geometry>
      <material name="yellow">
        <color rgba="0 1 1 1"/>
      </material>
    </collision>
    <inertial>
      <origin rpy="0 0 1.5708" xyz="0.00053 0.03218 0"/>
      <mass value="0.047"/>
      <inertia ixx="0.00000499332" ixy="0.00000091312" ixz="-0.00000000120" iyy="0.00006434531" iyz="-0.00000000007" izz="0.00006061917"/>
    </inertial>
  </link>
  <gazebo reference="gripperfinger_2_link_1">
    <mu1>1.1</mu1>
    <mu2>1.1</mu2>
  </gazebo>
  <!-- Link 2 -->
  <link name="gripperfinger_2_link_2">
    <visual>
      <origin rpy="0 0 1.5708" xyz="0 0.03810 0.0075"/>
      <geometry>
        <mesh filename="package://robotiq_s_model_visualization/meshes/s-model_articulated/visual/link_2.STL"/>
      </geometry>
      <material name="green"/>
    </visual>
    <collision>
      <origin rpy="0 0 1.5708" xyz="0 0.03810 0.0075"/>
      <geometry>
        <mesh filename="package://robotiq_s_model_visualization/meshes/s-model_articulated/collision/link_2.STL"/>
      </geometry>
      <material name="yellow"/>
    </collision>
    <inertial>
      <origin rpy="0 0 1.5708" xyz="0.00048 0.02167 0.00018"/>
      <mass value="0.03284"/>
      <inertia ixx="0.00000348008" ixy="0.00000031940" ixz="0.00000013041" iyy="0.00002248123" iyz="0.00000000291" izz="0.00001986346"/>
    </inertial>
  </link>
  <gazebo reference="gripperfinger_2_link_2">
    <mu1>1.1</mu1>
    <mu2>1.1</mu2>
  </gazebo>
  <!-- Link 3 -->
  <link name="gripperfinger_2_link_3">
    <visual>
      <origin rpy="0 0 0" xyz="0 0 0"/>
      <geometry>
        <mesh filename="package://robotiq_s_model_visualization/meshes/s-model_articulated/visual/link_3.STL"/>
      </geometry>
      <material name="green"/>
    </visual>
    <collision>
      <origin rpy="0 0 0" xyz="0 0 0"/>
      <geometry>
        <mesh filename="package://robotiq_s_model_visualization/meshes/s-model_articulated/collision/link_3.STL"/>
      </geometry>
      <material name="yellow"/>
    </collision>
    <inertial>
      <origin rpy="0 0 0" xyz="0.01626 0.00049 0.0002"/>
      <mass value="0.03354"/>
      <inertia ixx="0.00000305151" ixy="0.00000089792" ixz="0.00000000249" iyy="0.00001427978" iyz="-0.00000001191" izz="0.00001264126"/>
    </inertial>
  </link>
  <gazebo reference="gripperfinger_2_link_3">
    <mu1>1.1</mu1>
    <mu2>1.1</mu2>
  </gazebo>
  <!-- Link proximal actuating hinge -->
  <link name="gripperfinger_2_link_proximal_actuating_hinge">
    <visual>
      <origin rpy="0 0 0" xyz="0.01429 0 0"/>
      <geometry>
        <box size="0.02858 .0075 .002"/>
      </geometry>
    </visual>
    <collision>
      <origin rpy="0 0 0" xyz="0.01429 0 0"/>
      <geometry>
        <box size="0.02858 .0075 .002"/>
      </geometry>
    </collision>
    <inertial>
      <origin rpy="0 0 0" xyz="0.0012 -0.00162 -0.00161"/>
      <mass value="0.02647"/>
      <inertia ixx="0.00000156447" ixy="0.000000236226" ixz="-0.00000014862" iyy="0.00000221068" iyz="-0.00000014369" izz="0.00000323175"/>
    </inertial>
  </link>
  <gazebo reference="gripperfinger_2_link_proximal_actuating_hinge">
    <mu1>1.1</mu1>
    <mu2>1.1</mu2>
  </gazebo>
  <!-- Link paraproximal actuating hinge -->
  <link name="gripperfinger_2_link_paraproximal_actuating_hinge">
    <visual>
      <origin rpy="0 0 0" xyz="0.01143 0 0"/>
      <geometry>
        <box size="0.02286 .0075 .002"/>
      </geometry>
    </visual>
    <collision>
      <origin rpy="0 0 0" xyz="0.01143 0 0"/>
      <geometry>
        <box size="0.02286 .0075 .002"/>
      </geometry>
    </collision>
    <inertial>
      <origin rpy="0 0 0" xyz="0.0064 0 0"/>
      <!-- copied from proximal_actuating_hinge -->
      <mass value="0.00362"/>
      <inertia ixx="0.00000012043" ixy="0" ixz="0" iyy="0.00000053588" iyz="0" izz="0.00000065322"/>
    </inertial>
  </link>
  <gazebo reference="gripperfinger_2_link_paraproximal_actuating_hinge">
    <mu1>1.1</mu1>
    <mu2>1.1</mu2>
  </gazebo>
  <!-- Link proximal actuating bar -->
  <link name="gripperfinger_2_link_proximal_actuating_bar">
    <visual>
      <origin rpy="0 0 0" xyz="0.026789 0 0"/>
      <geometry>
        <box size="0.05398 .0075 .002"/>
      </geometry>
    </visual>
    <collision>
      <origin rpy="0 0 0" xyz="0.026789 0 0"/>
      <geometry>
        <box size="0.05398 .0075 .002"/>
      </geometry>
    </collision>
    <inertial>
      <origin rpy="0 0 0" xyz="0.02699 -0.00122 0"/>
      <mass value="0.00659"/>
      <inertia ixx="0.00000008348" ixy="-0.0000002179" ixz="0.00000000134" iyy="0.00000719076" iyz="0" izz="0.00000718272"/>
    </inertial>
  </link>
  <gazebo reference="gripperfinger_2_link_proximal_actuating_bar">
    <mu1>1.1</mu1>
    <mu2>1.1</mu2>
  </gazebo>
  <!-- Link paraproximal bar -->
  <link name="gripperfinger_2_link_paraproximal_bar">
    <visual>
      <origin rpy="0 0 0" xyz="0.02885 0 0"/>
      <geometry>
        <box size="0.05770 .0075 .002"/>
      </geometry>
    </visual>
    <collision>
      <origin rpy="0 0 0" xyz="0.02885 0 0"/>
      <geometry>
        <box size="0.05770 .0075 .002"/>
      </geometry>
    </collision>
    <inertial>
      <origin rpy="0 0 0" xyz="0.02858 -0.00129 0"/>
      <mass value="0.00732"/>
      <inertia ixx="0.00000009065" ixy="-0.00000027047" ixz="0.00000000142" iyy="0.00000878034" iyz="0" izz="0.00000877558"/>
    </inertial>
  </link>
  <gazebo reference="gripperfinger_2_link_paraproximal_bar">
    <mu1>1.1</mu1>
    <mu2>1.1</mu2>
  </gazebo>
  <!-- Link median actuating hinge -->
  <link name="gripperfinger_2_link_median_actuating_hinge">
    <visual>
      <origin rpy="0 0 0" xyz="0 0 0"/>
      <geometry>
        <box size=".02 .02 .002"/>
      </geometry>
    </visual>
    <collision>
      <origin rpy="0 0 0" xyz="0 0 0"/>
      <geometry>
        <box size=".02 .02 .002"/>
      </geometry>
    </collision>
    <inertial>
      <origin rpy="0 0 0" xyz="0.0092 0.00514 0"/>
      <mass value="0.00359"/>
      <inertia ixx="0.00000024735" ixy="0.00000023619" ixz="0" iyy="0.00000047681" iyz="0" izz="0.00000071813"/>
    </inertial>
  </link>
  <gazebo reference="gripperfinger_2_link_median_actuating_hinge">
    <mu1>1.1</mu1>
    <mu2>1.1</mu2>
  </gazebo>
  <!-- Link median bar -->
  <link name="gripperfinger_2_link_median_bar">
    <visual>
      <origin rpy="0 0 0" xyz="0.01905 0 0"/>
      <geometry>
        <box size="0.0381 .0075 .002"/>
      </geometry>
    </visual>
    <collision>
      <origin rpy="0 0 0" xyz="0.01905 0 0"/>
      <geometry>
        <box size="0.0381 .0075 .002"/>
      </geometry>
    </collision>
    <inertial>
      <origin rpy="0 0 0" xyz="0.01905 -0.00107 0"/>
      <mass value="0.00538"/>
      <inertia ixx="0.00000006639" ixy="-0.00000010996" ixz="0.00000000094" iyy="0.00000305318" iyz="0" izz="0.00000304657"/>
    </inertial>
  </link>
  <gazebo reference="gripperfinger_2_link_median_bar">
    <mu1>1.1</mu1>
    <mu2>1.1</mu2>
  </gazebo>
  <!-- Link paramedian hinge -->
  <link name="gripperfinger_2_link_paramedian_hinge">
    <visual>
      <origin rpy="0 0 0" xyz="0 0 0"/>
      <geometry>
        <box size=".02 .02 .002"/>
      </geometry>
    </visual>
    <collision>
      <origin rpy="0 0 0" xyz="0 0 0"/>
      <geometry>
        <box size=".02 .02 .002"/>
      </geometry>
    </collision>
    <inertial>
      <origin rpy="0 0 0" xyz="-0.01025 0.00046 0"/>
      <mass value="0.00276"/>
      <inertia ixx="0.00000004213" ixy="-0.00000001491" ixz="0" iyy="0.00000050258" iyz="0" izz="0.00000054007"/>
    </inertial>
  </link>
  <gazebo reference="gripperfinger_2_link_paramedian_hinge">
    <mu1>1.1</mu1>
    <mu2>1.1</mu2>
  </gazebo>
  <!-- Link median bar underactuated -->
  <link name="gripperfinger_2_link_median_bar_underactuated">
    <visual>
      <origin rpy="0 0 0" xyz="0.01905 0 0"/>
      <geometry>
        <box size="0.0381 .0075 .002"/>
      </geometry>
    </visual>
    <collision>
      <origin rpy="0 0 0" xyz="0.01905 0 0"/>
      <geometry>
        <box size="0.0381 .0075 .002"/>
      </geometry>
    </collision>
    <inertial>
      <origin rpy="0 0 0" xyz="0.01905 -0.00107 0"/>
      <mass value="0.00538"/>
      <inertia ixx="0.00000006639" ixy="-0.00000010996" ixz="-0.00000000094" iyy="0.00000305318" iyz="0" izz="0.00000304657"/>
    </inertial>
  </link>
  <gazebo reference="gripperfinger_2_link_median_bar_underactuated">
    <mu1>1.1</mu1>
    <mu2>1.1</mu2>
  </gazebo>
  <!-- Link paradistal hinge -->
  <link name="gripperfinger_2_link_paradistal_hinge">
    <visual>
      <origin rpy="0 0 0" xyz="0 0 0"/>
      <geometry>
        <box size=".02 .02 .002"/>
      </geometry>
    </visual>
    <collision>
      <origin rpy="0 0 0" xyz="0 0 0"/>
      <geometry>
        <box size=".02 0.02 .002"/>
      </geometry>
    </collision>
    <inertial>
      <origin rpy="0 0 0" xyz="0.00548 0 0"/>
      <mass value="0.00158"/>
      <inertia ixx="0.00000001907" ixy="0" ixz="0" iyy="0.00000010970" iyz="0" izz="0.00000012610"/>
    </inertial>
  </link>
  <gazebo reference="gripperfinger_2_link_paradistal_hinge">
    <mu1>1.1</mu1>
    <mu2>1.1</mu2>
  </gazebo>
  <!-- End of link list -->
  <!-- Joint list -->
  <!-- Joint proximal actuating hinge -->
  <joint name="gripperfinger_2_joint_proximal_actuating_hinge" type="revolute">
    <parent link="gripperfinger_2_link_0"/>
    <child link="gripperfinger_2_link_proximal_actuating_hinge"/>
    <axis xyz="0 0 1"/>
    <origin rpy="0 0 -2.0906" xyz="0 0 0.01"/>
    <limit effort="100" lower="-3.1416" upper="3.1416" velocity="100"/>
  </joint>
  <gazebo reference="gripperfinger_2_joint_proximal_actuating_hinge">
    <implicitSpringDamper>1</implicitSpringDamper>
  </gazebo>
  <!-- Joint paraproximal actuating hinge -->
  <joint name="gripperfinger_2_joint_paraproximal_actuating_hinge" type="revolute">
    <parent link="gripperfinger_2_link_0"/>
    <child link="gripperfinger_2_link_paraproximal_actuating_hinge"/>
    <axis xyz="0 0 1"/>
    <origin rpy="0 0 -2.0906" xyz="0 0 -0.01"/>
    <limit effort="100" lower="-3.1416" upper="3.1416" velocity="100"/>
  </joint>
  <gazebo reference="gripperfinger_2_joint_paraproximal_actuating_hinge">
    <implicitSpringDamper>1</implicitSpringDamper>
  </gazebo>
  <!-- Joint proximal actuating bar -->
  <joint name="gripperfinger_2_joint_proximal_actuating_bar" type="revolute">
    <parent link="gripperfinger_2_link_proximal_actuating_hinge"/>
    <child link="gripperfinger_2_link_proximal_actuating_bar"/>
    <axis xyz="0 0 1"/>
    <origin rpy="0 0 1.8616" xyz="0.02858 0 0"/>
    <limit effort="100" lower="-3.1416" upper="3.1416" velocity="100"/>
  </joint>
  <gazebo reference="gripperfinger_2_joint_proximal_actuating_bar">
    <implicitSpringDamper>1</implicitSpringDamper>
  </gazebo>
  <!-- Joint paraproximal bar -->
  <joint name="gripperfinger_2_joint_paraproximal_bar" type="revolute">
    <parent link="gripperfinger_2_link_paraproximal_actuating_hinge"/>
    <child link="gripperfinger_2_link_paraproximal_bar"/>
    <axis xyz="0 0 1"/>
    <origin rpy="0 0 1.57" xyz="0.02286 0 0"/>
    <limit effort="100" lower="-3.1416" upper="3.1416" velocity="100"/>
  </joint>
  <gazebo reference="gripperfinger_2_joint_paraproximal_bar">
    <implicitSpringDamper>1</implicitSpringDamper>
  </gazebo>
  <!-- Joint median actuating hinge -->
  <joint name="gripperfinger_2_joint_median_actuating_hinge" type="revolute">
    <parent link="gripperfinger_2_link_1"/>
    <child link="gripperfinger_2_link_median_actuating_hinge"/>
    <axis xyz="0 0 1"/>
    <origin rpy="0 0 -0.37" xyz="0 0.05715 0.01"/>
    <limit effort="100" lower="-3.1416" upper="3.1416" velocity="100"/>
  </joint>
  <gazebo reference="gripperfinger_2_joint_median_actuating_hinge">
    <implicitSpringDamper>1</implicitSpringDamper>
  </gazebo>
  <!-- Joint paramedian hinge -->
  <joint name="gripperfinger_2_joint_paramedian_hinge" type="revolute">
    <parent link="gripperfinger_2_link_1"/>
    <child link="gripperfinger_2_link_paramedian_hinge"/>
    <axis xyz="0 0 1"/>
    <!-- -0.37 is hand picked, 0.9719 is hand calculated from atan(0.02381/0.01625) -->
    <origin rpy="0 0 0" xyz="0 0.05715 -0.01"/>
    <limit effort="100" lower="-3.1416" upper="3.1416" velocity="100"/>
  </joint>
  <gazebo reference="gripperfinger_2_joint_paramedian_hinge">
    <implicitSpringDamper>1</implicitSpringDamper>
  </gazebo>
  <!-- Joint median actuating hinge median bar -->
  <joint name="gripperfinger_2_joint_median_actuating_hinge_median_bar" type="revolute">
    <parent link="gripperfinger_2_link_median_actuating_hinge"/>
    <child link="gripperfinger_2_link_median_bar"/>
    <axis xyz="0 0 1"/>
    <!-- hand calc 90 deg + atan(0.01516/0.01625) -->
    <origin rpy="0 0 2.3215" xyz="0.01625 0.01516 0"/>
    <limit effort="100" lower="-3.1416" upper="3.1416" velocity="100"/>
  </joint>
  <gazebo reference="gripperfinger_2_joint_median_actuating_hinge_median_bar">
    <implicitSpringDamper>1</implicitSpringDamper>
  </gazebo>
  <!-- Joint paradistal hinge -->
  <joint name="gripperfinger_2_joint_paradistal_hinge" type="revolute">
    <parent link="gripperfinger_2_link_2"/>
    <child link="gripperfinger_2_link_paradistal_hinge"/>
    <axis xyz="0 0 1"/>
    <origin rpy="0 0 0" xyz="0 0.039 -0.01"/>
    <limit effort="100" lower="-3.1416" upper="3.1416" velocity="100"/>
  </joint>
  <gazebo reference="gripperfinger_2_joint_paradistal_hinge">
    <implicitSpringDamper>1</implicitSpringDamper>
  </gazebo>
  <!-- Joint paramedian hinge median bar underactuated -->
  <joint name="gripperfinger_2_joint_paramedian_hinge_median_bar_underactuated" type="revolute">
    <parent link="gripperfinger_2_link_paramedian_hinge"/>
    <child link="gripperfinger_2_link_median_bar_underactuated"/>
    <axis xyz="0 0 1"/>
    <!-- hand calc 90 deg + atan(0.01227/0.00329) -->
    <origin rpy="0 0 1.5708" xyz="0.01227 0.00329 0"/>
    <limit effort="100" lower="-3.1416" upper="3.1416" velocity="100"/>
  </joint>
  <gazebo reference="gripperfinger_2_joint_paramedian_hinge_median_bar_underactuated">
    <implicitSpringDamper>1</implicitSpringDamper>
  </gazebo>
  <!-- Joint 1 -->
  <joint name="gripperfinger_2_joint_1" type="revolute">
    <origin rpy="0 0 -2.0906" xyz="0 0 0"/>
    <axis xyz="0 0 1"/>
    <parent link="gripperfinger_2_link_0"/>
    <child link="gripperfinger_2_link_1"/>
    <dynamics damping="1" friction="0"/>
    <!-- Limits: [0deg.,70deg.] -->
    <limit effort="60" lower="0" upper="1.2217" velocity="-1"/>
  </joint>
  <gazebo reference="gripperfinger_2_joint_1">
    <implicitSpringDamper>1</implicitSpringDamper>
  </gazebo>
  <!-- Joint 2 -->
  <joint name="gripperfinger_2_joint_2" type="revolute">
    <parent link="gripperfinger_2_link_1"/>
    <child link="gripperfinger_2_link_2"/>
    <dynamics damping="1" friction="0"/>
    <axis xyz="0 0 1"/>
    <origin rpy="0 0 0" xyz="0 0.05715 0"/>
    <!-- Limits: [0deg.,90deg.] -->
    <limit effort="60" lower="0" upper="1.5708" velocity="-1"/>
  </joint>
  <gazebo reference="gripperfinger_2_joint_2">
    <implicitSpringDamper>1</implicitSpringDamper>
  </gazebo>
  <!-- Joint 3 -->
  <joint name="gripperfinger_2_joint_3" type="revolute">
    <parent link="gripperfinger_2_link_2"/>
    <child link="gripperfinger_2_link_3"/>
    <dynamics damping="1" friction="0"/>
    <axis xyz="0 0 1"/>
    <origin rpy="0 0 2.0906" xyz="0 0.039 0"/>
    <!-- Limits: [-38deg.,60deg.] -->
    <limit effort="60" lower="-0.6632" upper="1.0471" velocity="-1"/>
  </joint>
  <gazebo reference="gripperfinger_2_joint_3">
    <implicitSpringDamper>1</implicitSpringDamper>
  </gazebo>
  <!-- end of joint list -->
  <!-- coupling joints in sdf -->
  <gazebo>
    <joint name="gripperfinger_2_link_proximal_actuating_bar_median_actuating_hinge_couple" type="revolute">
      <parent>gripperfinger_2_link_median_actuating_hinge</parent>
      <child>gripperfinger_2_link_proximal_actuating_bar</child>
      <pose>0.05398 0 0 0 0 0</pose>
      <axis>
        <dynamics>
          <damping>0</damping>
          <friction>0</friction>
        </dynamics>
        <xyz>0 0 1</xyz>
        <!-- <use_parent_model_frame>false</use_parent_model_frame> -->
      </axis>
    </joint>
  </gazebo>
  <gazebo reference="gripperfinger_2_link_proximal_actuating_bar_median_actuating_hinge_couple">
    <implicitSpringDamper>1</implicitSpringDamper>
  </gazebo>
  <gazebo>
    <joint name="gripperfinger_2_link_median_bar_link_3_couple" type="revolute">
      <parent>gripperfinger_2_link_3</parent>
      <child>gripperfinger_2_link_median_bar</child>
      <pose>0.0381 0 0 0 0 0</pose>
      <axis>
        <dynamics>
          <damping>0</damping>
          <friction>0</friction>
        </dynamics>
        <xyz>0 0 1</xyz>
        <!-- <use_parent_model_frame>false</use_parent_model_frame> -->
      </axis>
    </joint>
  </gazebo>
  <gazebo reference="gripperfinger_2_link_median_bar_link_3_couple">
    <implicitSpringDamper>1</implicitSpringDamper>
  </gazebo>
  <gazebo>
    <joint name="gripperfinger_2_link_paramedian_bar_paradistal_hinge_couple" type="revolute">
      <parent>gripperfinger_2_link_paradistal_hinge</parent>
      <child>gripperfinger_2_link_median_bar_underactuated</child>
      <pose>0.0381 0 0 0 0 0</pose>
      <axis>
        <dynamics>
          <damping>0</damping>
          <friction>0</friction>
        </dynamics>
        <xyz>0 0 1</xyz>
        <!-- <use_parent_model_frame>false</use_parent_model_frame> -->
      </axis>
    </joint>
  </gazebo>
  <gazebo reference="gripperfinger_2_link_median_bar_link_3_couple">
    <implicitSpringDamper>1</implicitSpringDamper>
  </gazebo>
  <gazebo>
    <joint name="gripperfinger_2_link_paradistal_hinge_link_3_couple" type="revolute">
      <parent>gripperfinger_2_link_paradistal_hinge</parent>
      <child>gripperfinger_2_link_3</child>
      <pose>0.0381 0 0 0 0 0</pose>
      <axis>
        <dynamics>
          <damping>0</damping>
          <friction>0</friction>
        </dynamics>
        <xyz>0 0 1</xyz>
        <!-- <use_parent_model_frame>false</use_parent_model_frame> -->
      </axis>
    </joint>
  </gazebo>
  <gazebo reference="gripperfinger_2_link_paradistal_hinge_link_3_couple">
    <implicitSpringDamper>1</implicitSpringDamper>
  </gazebo>
  <gazebo>
    <joint name="gripperfinger_2_link_paraproximal_bar_paramedian_hinge_couple" type="revolute">
      <parent>gripperfinger_2_link_paramedian_hinge</parent>
      <child>gripperfinger_2_link_paraproximal_bar</child>
      <pose>0.05770 0 0 0 0 0</pose>
      <axis>
        <dynamics>
          <damping>0</damping>
          <friction>0</friction>
        </dynamics>
        <xyz>0 0 1</xyz>
        <!-- <use_parent_model_frame>false</use_parent_model_frame> -->
      </axis>
    </joint>
  </gazebo>
  <gazebo reference="gripperfinger_2_link_paraproximal_bar_paramedian_hinge_couple">
    <implicitSpringDamper>1</implicitSpringDamper>
  </gazebo>
  <!-- Link list -->
  <!-- Link 0 -->
  <link name="gripperfinger_middle_link_0">
    <visual>
      <origin rpy="0 0 0" xyz="0 0 0"/>
      <geometry>
        <mesh filename="package://robotiq_s_model_visualization/meshes/s-model_articulated/visual/link_0.STL"/>
      </geometry>
      <material name="green">
        <color rgba="0 1 0 1"/>
      </material>
    </visual>
    <collision>
      <origin rpy="0 0 0" xyz="0 0 0"/>
      <geometry>
        <mesh filename="package://robotiq_s_model_visualization/meshes/s-model_articulated/collision/link_0.STL"/>
      </geometry>
      <material name="yellow">
        <color rgba="0 1 1 1"/>
      </material>
    </collision>
    <inertial>
      <mass value="0.1"/>
      <origin xyz="-0.01 0 0"/>
      <inertia ixx="0.000018" ixy="0" ixz="0" iyy="0.000025" iyz="0" izz="0.000025"/>
    </inertial>
  </link>
  <gazebo reference="gripperfinger_middle_link_0">
    <mu1>1.1</mu1>
    <mu2>1.1</mu2>
  </gazebo>
  <!-- Link 1 -->
  <link name="gripperfinger_middle_link_1">
    <visual>
      <origin rpy="0 0 1.5708" xyz="0 0.05717 0"/>
      <geometry>
        <mesh filename="package://robotiq_s_model_visualization/meshes/s-model_articulated/visual/link_1.STL"/>
      </geometry>
      <material name="green"/>
    </visual>
    <collision>
      <origin rpy="0 0 1.5708" xyz="0 0.05717 0"/>
      <geometry>
        <mesh filename="package://robotiq_s_model_visualization/meshes/s-model_articulated/collision/link_1.STL"/>
      </geometry>
      <material name="yellow">
        <color rgba="0 1 1 1"/>
      </material>
    </collision>
    <inertial>
      <origin rpy="0 0 1.5708" xyz="0.00053 0.03218 0"/>
      <mass value="0.047"/>
      <inertia ixx="0.00000499332" ixy="0.00000091312" ixz="-0.00000000120" iyy="0.00006434531" iyz="-0.00000000007" izz="0.00006061917"/>
    </inertial>
  </link>
  <gazebo reference="gripperfinger_middle_link_1">
    <mu1>1.1</mu1>
    <mu2>1.1</mu2>
  </gazebo>
  <!-- Link 2 -->
  <link name="gripperfinger_middle_link_2">
    <visual>
      <origin rpy="0 0 1.5708" xyz="0 0.03810 0.0075"/>
      <geometry>
        <mesh filename="package://robotiq_s_model_visualization/meshes/s-model_articulated/visual/link_2.STL"/>
      </geometry>
      <material name="green"/>
    </visual>
    <collision>
      <origin rpy="0 0 1.5708" xyz="0 0.03810 0.0075"/>
      <geometry>
        <mesh filename="package://robotiq_s_model_visualization/meshes/s-model_articulated/collision/link_2.STL"/>
      </geometry>
      <material name="yellow"/>
    </collision>
    <inertial>
      <origin rpy="0 0 1.5708" xyz="0.00048 0.02167 0.00018"/>
      <mass value="0.03284"/>
      <inertia ixx="0.00000348008" ixy="0.00000031940" ixz="0.00000013041" iyy="0.00002248123" iyz="0.00000000291" izz="0.00001986346"/>
    </inertial>
  </link>
  <gazebo reference="gripperfinger_middle_link_2">
    <mu1>1.1</mu1>
    <mu2>1.1</mu2>
  </gazebo>
  <!-- Link 3 -->
  <link name="gripperfinger_middle_link_3">
    <visual>
      <origin rpy="0 0 0" xyz="0 0 0"/>
      <geometry>
        <mesh filename="package://robotiq_s_model_visualization/meshes/s-model_articulated/visual/link_3.STL"/>
      </geometry>
      <material name="green"/>
    </visual>
    <collision>
      <origin rpy="0 0 0" xyz="0 0 0"/>
      <geometry>
        <mesh filename="package://robotiq_s_model_visualization/meshes/s-model_articulated/collision/link_3.STL"/>
      </geometry>
      <material name="yellow"/>
    </collision>
    <inertial>
      <origin rpy="0 0 0" xyz="0.01626 0.00049 0.0002"/>
      <mass value="0.03354"/>
      <inertia ixx="0.00000305151" ixy="0.00000089792" ixz="0.00000000249" iyy="0.00001427978" iyz="-0.00000001191" izz="0.00001264126"/>
    </inertial>
  </link>
  <gazebo reference="gripperfinger_middle_link_3">
    <mu1>1.1</mu1>
    <mu2>1.1</mu2>
  </gazebo>
  <!-- Link proximal actuating hinge -->
  <link name="gripperfinger_middle_link_proximal_actuating_hinge">
    <visual>
      <origin rpy="0 0 0" xyz="0.01429 0 0"/>
      <geometry>
        <box size="0.02858 .0075 .002"/>
      </geometry>
    </visual>
    <collision>
      <origin rpy="0 0 0" xyz="0.01429 0 0"/>
      <geometry>
        <box size="0.02858 .0075 .002"/>
      </geometry>
    </collision>
    <inertial>
      <origin rpy="0 0 0" xyz="0.0012 -0.00162 -0.00161"/>
      <mass value="0.02647"/>
      <inertia ixx="0.00000156447" ixy="0.000000236226" ixz="-0.00000014862" iyy="0.00000221068" iyz="-0.00000014369" izz="0.00000323175"/>
    </inertial>
  </link>
  <gazebo reference="gripperfinger_middle_link_proximal_actuating_hinge">
    <mu1>1.1</mu1>
    <mu2>1.1</mu2>
  </gazebo>
  <!-- Link paraproximal actuating hinge -->
  <link name="gripperfinger_middle_link_paraproximal_actuating_hinge">
    <visual>
      <origin rpy="0 0 0" xyz="0.01143 0 0"/>
      <geometry>
        <box size="0.02286 .0075 .002"/>
      </geometry>
    </visual>
    <collision>
      <origin rpy="0 0 0" xyz="0.01143 0 0"/>
      <geometry>
        <box size="0.02286 .0075 .002"/>
      </geometry>
    </collision>
    <inertial>
      <origin rpy="0 0 0" xyz="0.0064 0 0"/>
      <!-- copied from proximal_actuating_hinge -->
      <mass value="0.00362"/>
      <inertia ixx="0.00000012043" ixy="0" ixz="0" iyy="0.00000053588" iyz="0" izz="0.00000065322"/>
    </inertial>
  </link>
  <gazebo reference="gripperfinger_middle_link_paraproximal_actuating_hinge">
    <mu1>1.1</mu1>
    <mu2>1.1</mu2>
  </gazebo>
  <!-- Link proximal actuating bar -->
  <link name="gripperfinger_middle_link_proximal_actuating_bar">
    <visual>
      <origin rpy="0 0 0" xyz="0.026789 0 0"/>
      <geometry>
        <box size="0.05398 .0075 .002"/>
      </geometry>
    </visual>
    <collision>
      <origin rpy="0 0 0" xyz="0.026789 0 0"/>
      <geometry>
        <box size="0.05398 .0075 .002"/>
      </geometry>
    </collision>
    <inertial>
      <origin rpy="0 0 0" xyz="0.02699 -0.00122 0"/>
      <mass value="0.00659"/>
      <inertia ixx="0.00000008348" ixy="-0.0000002179" ixz="0.00000000134" iyy="0.00000719076" iyz="0" izz="0.00000718272"/>
    </inertial>
  </link>
  <gazebo reference="gripperfinger_middle_link_proximal_actuating_bar">
    <mu1>1.1</mu1>
    <mu2>1.1</mu2>
  </gazebo>
  <!-- Link paraproximal bar -->
  <link name="gripperfinger_middle_link_paraproximal_bar">
    <visual>
      <origin rpy="0 0 0" xyz="0.02885 0 0"/>
      <geometry>
        <box size="0.05770 .0075 .002"/>
      </geometry>
    </visual>
    <collision>
      <origin rpy="0 0 0" xyz="0.02885 0 0"/>
      <geometry>
        <box size="0.05770 .0075 .002"/>
      </geometry>
    </collision>
    <inertial>
      <origin rpy="0 0 0" xyz="0.02858 -0.00129 0"/>
      <mass value="0.00732"/>
      <inertia ixx="0.00000009065" ixy="-0.00000027047" ixz="0.00000000142" iyy="0.00000878034" iyz="0" izz="0.00000877558"/>
    </inertial>
  </link>
  <gazebo reference="gripperfinger_middle_link_paraproximal_bar">
    <mu1>1.1</mu1>
    <mu2>1.1</mu2>
  </gazebo>
  <!-- Link median actuating hinge -->
  <link name="gripperfinger_middle_link_median_actuating_hinge">
    <visual>
      <origin rpy="0 0 0" xyz="0 0 0"/>
      <geometry>
        <box size=".02 .02 .002"/>
      </geometry>
    </visual>
    <collision>
      <origin rpy="0 0 0" xyz="0 0 0"/>
      <geometry>
        <box size=".02 .02 .002"/>
      </geometry>
    </collision>
    <inertial>
      <origin rpy="0 0 0" xyz="0.0092 0.00514 0"/>
      <mass value="0.00359"/>
      <inertia ixx="0.00000024735" ixy="0.00000023619" ixz="0" iyy="0.00000047681" iyz="0" izz="0.00000071813"/>
    </inertial>
  </link>
  <gazebo reference="gripperfinger_middle_link_median_actuating_hinge">
    <mu1>1.1</mu1>
    <mu2>1.1</mu2>
  </gazebo>
  <!-- Link median bar -->
  <link name="gripperfinger_middle_link_median_bar">
    <visual>
      <origin rpy="0 0 0" xyz="0.01905 0 0"/>
      <geometry>
        <box size="0.0381 .0075 .002"/>
      </geometry>
    </visual>
    <collision>
      <origin rpy="0 0 0" xyz="0.01905 0 0"/>
      <geometry>
        <box size="0.0381 .0075 .002"/>
      </geometry>
    </collision>
    <inertial>
      <origin rpy="0 0 0" xyz="0.01905 -0.00107 0"/>
      <mass value="0.00538"/>
      <inertia ixx="0.00000006639" ixy="-0.00000010996" ixz="0.00000000094" iyy="0.00000305318" iyz="0" izz="0.00000304657"/>
    </inertial>
  </link>
  <gazebo reference="gripperfinger_middle_link_median_bar">
    <mu1>1.1</mu1>
    <mu2>1.1</mu2>
  </gazebo>
  <!-- Link paramedian hinge -->
  <link name="gripperfinger_middle_link_paramedian_hinge">
    <visual>
      <origin rpy="0 0 0" xyz="0 0 0"/>
      <geometry>
        <box size=".02 .02 .002"/>
      </geometry>
    </visual>
    <collision>
      <origin rpy="0 0 0" xyz="0 0 0"/>
      <geometry>
        <box size=".02 .02 .002"/>
      </geometry>
    </collision>
    <inertial>
      <origin rpy="0 0 0" xyz="-0.01025 0.00046 0"/>
      <mass value="0.00276"/>
      <inertia ixx="0.00000004213" ixy="-0.00000001491" ixz="0" iyy="0.00000050258" iyz="0" izz="0.00000054007"/>
    </inertial>
  </link>
  <gazebo reference="gripperfinger_middle_link_paramedian_hinge">
    <mu1>1.1</mu1>
    <mu2>1.1</mu2>
  </gazebo>
  <!-- Link median bar underactuated -->
  <link name="gripperfinger_middle_link_median_bar_underactuated">
    <visual>
      <origin rpy="0 0 0" xyz="0.01905 0 0"/>
      <geometry>
        <box size="0.0381 .0075 .002"/>
      </geometry>
    </visual>
    <collision>
      <origin rpy="0 0 0" xyz="0.01905 0 0"/>
      <geometry>
        <box size="0.0381 .0075 .002"/>
      </geometry>
    </collision>
    <inertial>
      <origin rpy="0 0 0" xyz="0.01905 -0.00107 0"/>
      <mass value="0.00538"/>
      <inertia ixx="0.00000006639" ixy="-0.00000010996" ixz="-0.00000000094" iyy="0.00000305318" iyz="0" izz="0.00000304657"/>
    </inertial>
  </link>
  <gazebo reference="gripperfinger_middle_link_median_bar_underactuated">
    <mu1>1.1</mu1>
    <mu2>1.1</mu2>
  </gazebo>
  <!-- Link paradistal hinge -->
  <link name="gripperfinger_middle_link_paradistal_hinge">
    <visual>
      <origin rpy="0 0 0" xyz="0 0 0"/>
      <geometry>
        <box size=".02 .02 .002"/>
      </geometry>
    </visual>
    <collision>
      <origin rpy="0 0 0" xyz="0 0 0"/>
      <geometry>
        <box size=".02 0.02 .002"/>
      </geometry>
    </collision>
    <inertial>
      <origin rpy="0 0 0" xyz="0.00548 0 0"/>
      <mass value="0.00158"/>
      <inertia ixx="0.00000001907" ixy="0" ixz="0" iyy="0.00000010970" iyz="0" izz="0.00000012610"/>
    </inertial>
  </link>
  <gazebo reference="gripperfinger_middle_link_paradistal_hinge">
    <mu1>1.1</mu1>
    <mu2>1.1</mu2>
  </gazebo>
  <!-- End of link list -->
  <!-- Joint list -->
  <!-- Joint proximal actuating hinge -->
  <joint name="gripperfinger_middle_joint_proximal_actuating_hinge" type="revolute">
    <parent link="gripperfinger_middle_link_0"/>
    <child link="gripperfinger_middle_link_proximal_actuating_hinge"/>
    <axis xyz="0 0 1"/>
    <origin rpy="0 0 -2.0906" xyz="0 0 0.01"/>
    <limit effort="100" lower="-3.1416" upper="3.1416" velocity="100"/>
  </joint>
  <gazebo reference="gripperfinger_middle_joint_proximal_actuating_hinge">
    <implicitSpringDamper>1</implicitSpringDamper>
  </gazebo>
  <!-- Joint paraproximal actuating hinge -->
  <joint name="gripperfinger_middle_joint_paraproximal_actuating_hinge" type="revolute">
    <parent link="gripperfinger_middle_link_0"/>
    <child link="gripperfinger_middle_link_paraproximal_actuating_hinge"/>
    <axis xyz="0 0 1"/>
    <origin rpy="0 0 -2.0906" xyz="0 0 -0.01"/>
    <limit effort="100" lower="-3.1416" upper="3.1416" velocity="100"/>
  </joint>
  <gazebo reference="gripperfinger_middle_joint_paraproximal_actuating_hinge">
    <implicitSpringDamper>1</implicitSpringDamper>
  </gazebo>
  <!-- Joint proximal actuating bar -->
  <joint name="gripperfinger_middle_joint_proximal_actuating_bar" type="revolute">
    <parent link="gripperfinger_middle_link_proximal_actuating_hinge"/>
    <child link="gripperfinger_middle_link_proximal_actuating_bar"/>
    <axis xyz="0 0 1"/>
    <origin rpy="0 0 1.8616" xyz="0.02858 0 0"/>
    <limit effort="100" lower="-3.1416" upper="3.1416" velocity="100"/>
  </joint>
  <gazebo reference="gripperfinger_middle_joint_proximal_actuating_bar">
    <implicitSpringDamper>1</implicitSpringDamper>
  </gazebo>
  <!-- Joint paraproximal bar -->
  <joint name="gripperfinger_middle_joint_paraproximal_bar" type="revolute">
    <parent link="gripperfinger_middle_link_paraproximal_actuating_hinge"/>
    <child link="gripperfinger_middle_link_paraproximal_bar"/>
    <axis xyz="0 0 1"/>
    <origin rpy="0 0 1.57" xyz="0.02286 0 0"/>
    <limit effort="100" lower="-3.1416" upper="3.1416" velocity="100"/>
  </joint>
  <gazebo reference="gripperfinger_middle_joint_paraproximal_bar">
    <implicitSpringDamper>1</implicitSpringDamper>
  </gazebo>
  <!-- Joint median actuating hinge -->
  <joint name="gripperfinger_middle_joint_median_actuating_hinge" type="revolute">
    <parent link="gripperfinger_middle_link_1"/>
    <child link="gripperfinger_middle_link_median_actuating_hinge"/>
    <axis xyz="0 0 1"/>
    <origin rpy="0 0 -0.37" xyz="0 0.05715 0.01"/>
    <limit effort="100" lower="-3.1416" upper="3.1416" velocity="100"/>
  </joint>
  <gazebo reference="gripperfinger_middle_joint_median_actuating_hinge">
    <implicitSpringDamper>1</implicitSpringDamper>
  </gazebo>
  <!-- Joint paramedian hinge -->
  <joint name="gripperfinger_middle_joint_paramedian_hinge" type="revolute">
    <parent link="gripperfinger_middle_link_1"/>
    <child link="gripperfinger_middle_link_paramedian_hinge"/>
    <axis xyz="0 0 1"/>
    <!-- -0.37 is hand picked, 0.9719 is hand calculated from atan(0.02381/0.01625) -->
    <origin rpy="0 0 0" xyz="0 0.05715 -0.01"/>
    <limit effort="100" lower="-3.1416" upper="3.1416" velocity="100"/>
  </joint>
  <gazebo reference="gripperfinger_middle_joint_paramedian_hinge">
    <implicitSpringDamper>1</implicitSpringDamper>
  </gazebo>
  <!-- Joint median actuating hinge median bar -->
  <joint name="gripperfinger_middle_joint_median_actuating_hinge_median_bar" type="revolute">
    <parent link="gripperfinger_middle_link_median_actuating_hinge"/>
    <child link="gripperfinger_middle_link_median_bar"/>
    <axis xyz="0 0 1"/>
    <!-- hand calc 90 deg + atan(0.01516/0.01625) -->
    <origin rpy="0 0 2.3215" xyz="0.01625 0.01516 0"/>
    <limit effort="100" lower="-3.1416" upper="3.1416" velocity="100"/>
  </joint>
  <gazebo reference="gripperfinger_middle_joint_median_actuating_hinge_median_bar">
    <implicitSpringDamper>1</implicitSpringDamper>
  </gazebo>
  <!-- Joint paradistal hinge -->
  <joint name="gripperfinger_middle_joint_paradistal_hinge" type="revolute">
    <parent link="gripperfinger_middle_link_2"/>
    <child link="gripperfinger_middle_link_paradistal_hinge"/>
    <axis xyz="0 0 1"/>
    <origin rpy="0 0 0" xyz="0 0.039 -0.01"/>
    <limit effort="100" lower="-3.1416" upper="3.1416" velocity="100"/>
  </joint>
  <gazebo reference="gripperfinger_middle_joint_paradistal_hinge">
    <implicitSpringDamper>1</implicitSpringDamper>
  </gazebo>
  <!-- Joint paramedian hinge median bar underactuated -->
  <joint name="gripperfinger_middle_joint_paramedian_hinge_median_bar_underactuated" type="revolute">
    <parent link="gripperfinger_middle_link_paramedian_hinge"/>
    <child link="gripperfinger_middle_link_median_bar_underactuated"/>
    <axis xyz="0 0 1"/>
    <!-- hand calc 90 deg + atan(0.01227/0.00329) -->
    <origin rpy="0 0 1.5708" xyz="0.01227 0.00329 0"/>
    <limit effort="100" lower="-3.1416" upper="3.1416" velocity="100"/>
  </joint>
  <gazebo reference="gripperfinger_middle_joint_paramedian_hinge_median_bar_underactuated">
    <implicitSpringDamper>1</implicitSpringDamper>
  </gazebo>
  <!-- Joint 1 -->
  <joint name="gripperfinger_middle_joint_1" type="revolute">
    <origin rpy="0 0 -2.0906" xyz="0 0 0"/>
    <axis xyz="0 0 1"/>
    <parent link="gripperfinger_middle_link_0"/>
    <child link="gripperfinger_middle_link_1"/>
    <dynamics damping="1" friction="0"/>
    <!-- Limits: [0deg.,70deg.] -->
    <limit effort="60" lower="0" upper="1.2217" velocity="-1"/>
  </joint>
  <gazebo reference="gripperfinger_middle_joint_1">
    <implicitSpringDamper>1</implicitSpringDamper>
  </gazebo>
  <!-- Joint 2 -->
  <joint name="gripperfinger_middle_joint_2" type="revolute">
    <parent link="gripperfinger_middle_link_1"/>
    <child link="gripperfinger_middle_link_2"/>
    <dynamics damping="1" friction="0"/>
    <axis xyz="0 0 1"/>
    <origin rpy="0 0 0" xyz="0 0.05715 0"/>
    <!-- Limits: [0deg.,90deg.] -->
    <limit effort="60" lower="0" upper="1.5708" velocity="-1"/>
  </joint>
  <gazebo reference="gripperfinger_middle_joint_2">
    <implicitSpringDamper>1</implicitSpringDamper>
  </gazebo>
  <!-- Joint 3 -->
  <joint name="gripperfinger_middle_joint_3" type="revolute">
    <parent link="gripperfinger_middle_link_2"/>
    <child link="gripperfinger_middle_link_3"/>
    <dynamics damping="1" friction="0"/>
    <axis xyz="0 0 1"/>
    <origin rpy="0 0 2.0906" xyz="0 0.039 0"/>
    <!-- Limits: [-38deg.,60deg.] -->
    <limit effort="60" lower="-0.6632" upper="1.0471" velocity="-1"/>
  </joint>
  <gazebo reference="gripperfinger_middle_joint_3">
    <implicitSpringDamper>1</implicitSpringDamper>
  </gazebo>
  <!-- end of joint list -->
  <!-- coupling joints in sdf -->
  <gazebo>
    <joint name="gripperfinger_middle_link_proximal_actuating_bar_median_actuating_hinge_couple" type="revolute">
      <parent>gripperfinger_middle_link_median_actuating_hinge</parent>
      <child>gripperfinger_middle_link_proximal_actuating_bar</child>
      <pose>0.05398 0 0 0 0 0</pose>
      <axis>
        <dynamics>
          <damping>0</damping>
          <friction>0</friction>
        </dynamics>
        <xyz>0 0 1</xyz>
        <!-- <use_parent_model_frame>false</use_parent_model_frame> -->
      </axis>
    </joint>
  </gazebo>
  <gazebo reference="gripperfinger_middle_link_proximal_actuating_bar_median_actuating_hinge_couple">
    <implicitSpringDamper>1</implicitSpringDamper>
  </gazebo>
  <gazebo>
    <joint name="gripperfinger_middle_link_median_bar_link_3_couple" type="revolute">
      <parent>gripperfinger_middle_link_3</parent>
      <child>gripperfinger_middle_link_median_bar</child>
      <pose>0.0381 0 0 0 0 0</pose>
      <axis>
        <dynamics>
          <damping>0</damping>
          <friction>0</friction>
        </dynamics>
        <xyz>0 0 1</xyz>
        <!-- <use_parent_model_frame>false</use_parent_model_frame> -->
      </axis>
    </joint>
  </gazebo>
  <gazebo reference="gripperfinger_middle_link_median_bar_link_3_couple">
    <implicitSpringDamper>1</implicitSpringDamper>
  </gazebo>
  <gazebo>
    <joint name="gripperfinger_middle_link_paramedian_bar_paradistal_hinge_couple" type="revolute">
      <parent>gripperfinger_middle_link_paradistal_hinge</parent>
      <child>gripperfinger_middle_link_median_bar_underactuated</child>
      <pose>0.0381 0 0 0 0 0</pose>
      <axis>
        <dynamics>
          <damping>0</damping>
          <friction>0</friction>
        </dynamics>
        <xyz>0 0 1</xyz>
        <!-- <use_parent_model_frame>false</use_parent_model_frame> -->
      </axis>
    </joint>
  </gazebo>
  <gazebo reference="gripperfinger_middle_link_median_bar_link_3_couple">
    <implicitSpringDamper>1</implicitSpringDamper>
  </gazebo>
  <gazebo>
    <joint name="gripperfinger_middle_link_paradistal_hinge_link_3_couple" type="revolute">
      <parent>gripperfinger_middle_link_paradistal_hinge</parent>
      <child>gripperfinger_middle_link_3</child>
      <pose>0.0381 0 0 0 0 0</pose>
      <axis>
        <dynamics>
          <damping>0</damping>
          <friction>0</friction>
        </dynamics>
        <xyz>0 0 1</xyz>
        <!-- <use_parent_model_frame>false</use_parent_model_frame> -->
      </axis>
    </joint>
  </gazebo>
  <gazebo reference="gripperfinger_middle_link_paradistal_hinge_link_3_couple">
    <implicitSpringDamper>1</implicitSpringDamper>
  </gazebo>
  <gazebo>
    <joint name="gripperfinger_middle_link_paraproximal_bar_paramedian_hinge_couple" type="revolute">
      <parent>gripperfinger_middle_link_paramedian_hinge</parent>
      <child>gripperfinger_middle_link_paraproximal_bar</child>
      <pose>0.05770 0 0 0 0 0</pose>
      <axis>
        <dynamics>
          <damping>0</damping>
          <friction>0</friction>
        </dynamics>
        <xyz>0 0 1</xyz>
        <!-- <use_parent_model_frame>false</use_parent_model_frame> -->
      </axis>
    </joint>
  </gazebo>
  <gazebo reference="gripperfinger_middle_link_paraproximal_bar_paramedian_hinge_couple">
    <implicitSpringDamper>1</implicitSpringDamper>
  </gazebo>
  <!-- link list -->
  <!-- Link palm -->
  <link name="gripperpalm">
    <visual>
      <geometry>
        <mesh filename="package://robotiq_s_model_visualization/meshes/s-model_articulated/visual/palm.STL"/>
      </geometry>
      <material name="green">
        <color rgba="0 1 0 1"/>
      </material>
    </visual>
    <!-- Simple shape collision -->
    <collision>
      <origin rpy="0 0 0" xyz="0 0 0"/>
      <geometry>
        <box size="0.1 0.1 0.1"/>
      </geometry>
      <material name="yellow">
        <color rgba="0 1 1 1"/>
      </material>
    </collision>
    <inertial>
      <origin rpy="0 0 0" xyz="0 0 0"/>
      <mass value="1.3"/>
      <inertia ixx="0.0035" ixy="0" ixz="-0" iyy="0.0035" iyz="0" izz="0.0035"/>
    </inertial>
  </link>
  <gazebo reference="gripperpalm">
    <mu1>1.1</mu1>
    <mu2>1.1</mu2>
  </gazebo>
  <!-- End of link list -->
  <!-- Joint list -->
  <!-- Joint palm_finger_1_joint -->
  <joint name="gripperpalm_finger_1_joint" type="revolute">
    <parent link="gripperpalm"/>
    <child link="gripperfinger_1_link_0"/>
    <dynamics damping="1" friction="0"/>
    <axis xyz="0 1 0"/>
    <origin rpy="0 3.1416 -1.57" xyz="-0.0455 0.0214 0.036"/>
    <!-- Limits: [-17deg.,17deg.] -->
    <limit effort="60" lower="-0.2967" upper="0.2967" velocity="-1"/>
  </joint>
  <gazebo reference="gripperpalm_finger_1_joint">
    <implicitSpringDamper>1</implicitSpringDamper>
  </gazebo>
  <!-- Joint palm_finger_2_joint -->
  <joint name="gripperpalm_finger_2_joint" type="revolute">
    <parent link="gripperpalm"/>
    <child link="gripperfinger_2_link_0"/>
    <dynamics damping="1" friction="0"/>
    <axis xyz="0 1 0"/>
    <origin rpy="0 3.1416 -1.57" xyz="-0.0455 0.0214 -0.036"/>
    <!-- Limits: [-17deg.,17deg.] -->
    <limit effort="60" lower="-0.2967" upper="0.2967" velocity="-1"/>
  </joint>
  <gazebo reference="gripperpalm_finger_2_joint">
    <implicitSpringDamper>1</implicitSpringDamper>
  </gazebo>
  <!-- Joint palm_finger_middle_joint -->
  <joint name="gripperpalm_finger_middle_joint" type="revolute">
    <parent link="gripperpalm"/>
    <child link="gripperfinger_middle_link_0"/>
    <dynamics damping="1" friction="0"/>
    <axis xyz="0 1 0"/>
    <origin rpy="0 0 1.57" xyz="0.0455 0.0214 0"/>
    <limit effort="60" lower="0" upper="0" velocity="-1"/>
  </joint>
  <gazebo reference="gripperpalm_finger_middle_joint">
    <implicitSpringDamper>1</implicitSpringDamper>
  </gazebo>
  <!-- end of joint list -->
</robot>
